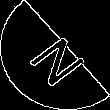N_NE: (20, 23, 90, 87)
